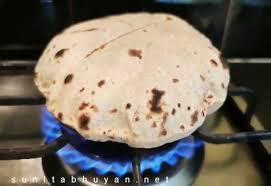roti phulka: (28, 14, 239, 152)
